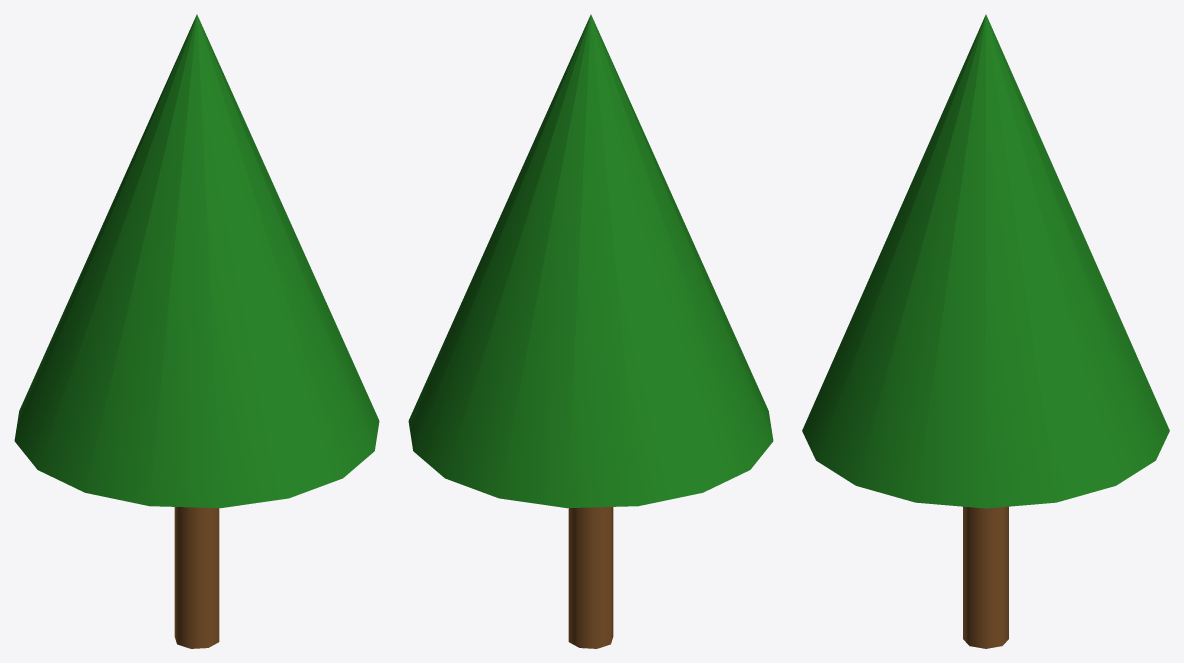
Rendered from tree.glb.
The picture shows the model from 3 angles, left to right: view 1: azimuth 30°, elevation 25°; view 2: azimuth 150°, elevation 25°; view 3: azimuth 270°, elevation 25°; orthographic projection.
Bounding box in the file's own units: 1.6 × 3 × 1.6.
